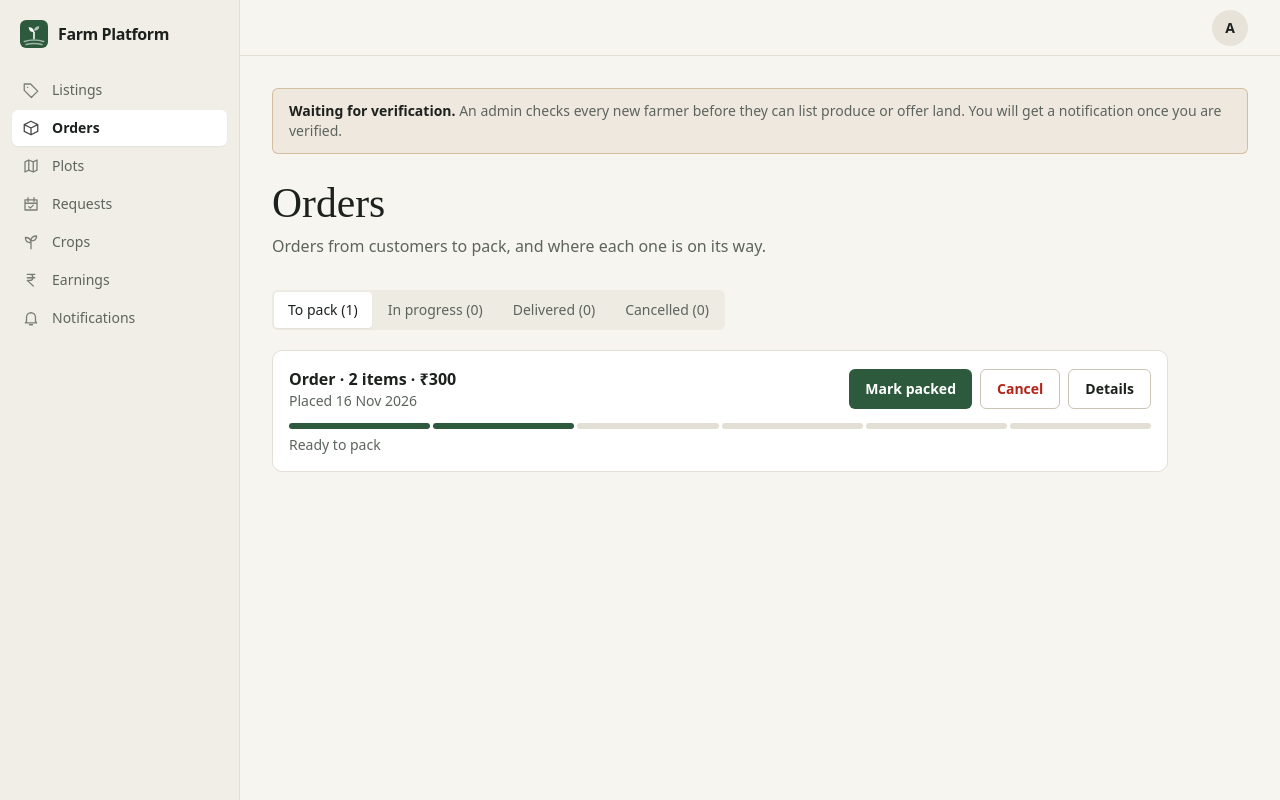
Test case: farmer orders page › shows the items and timeline in details
Click the button "Details" at coordinates (1110, 389), box [1068,369,1151,409]
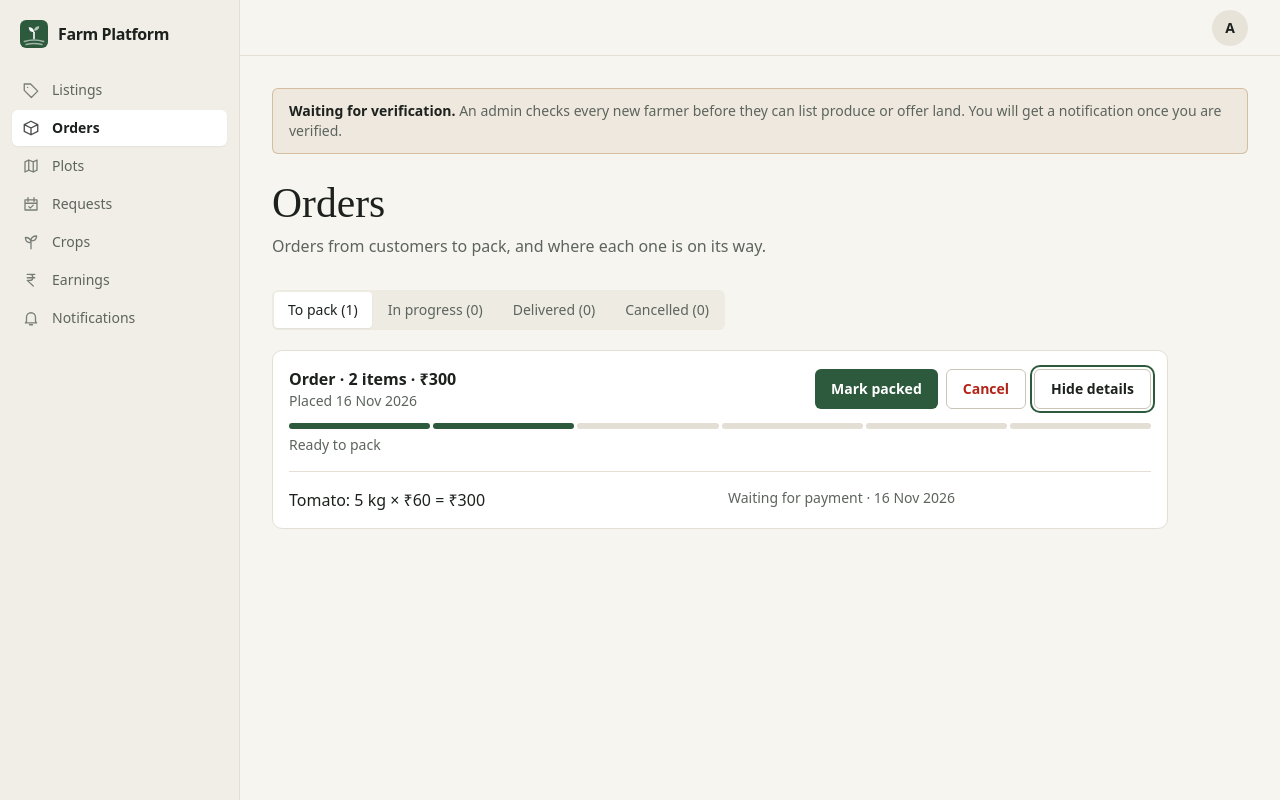
Check: the list item "Tomato: 5 kg × ₹60 = ₹300" is shown, box [289,489,485,511]
